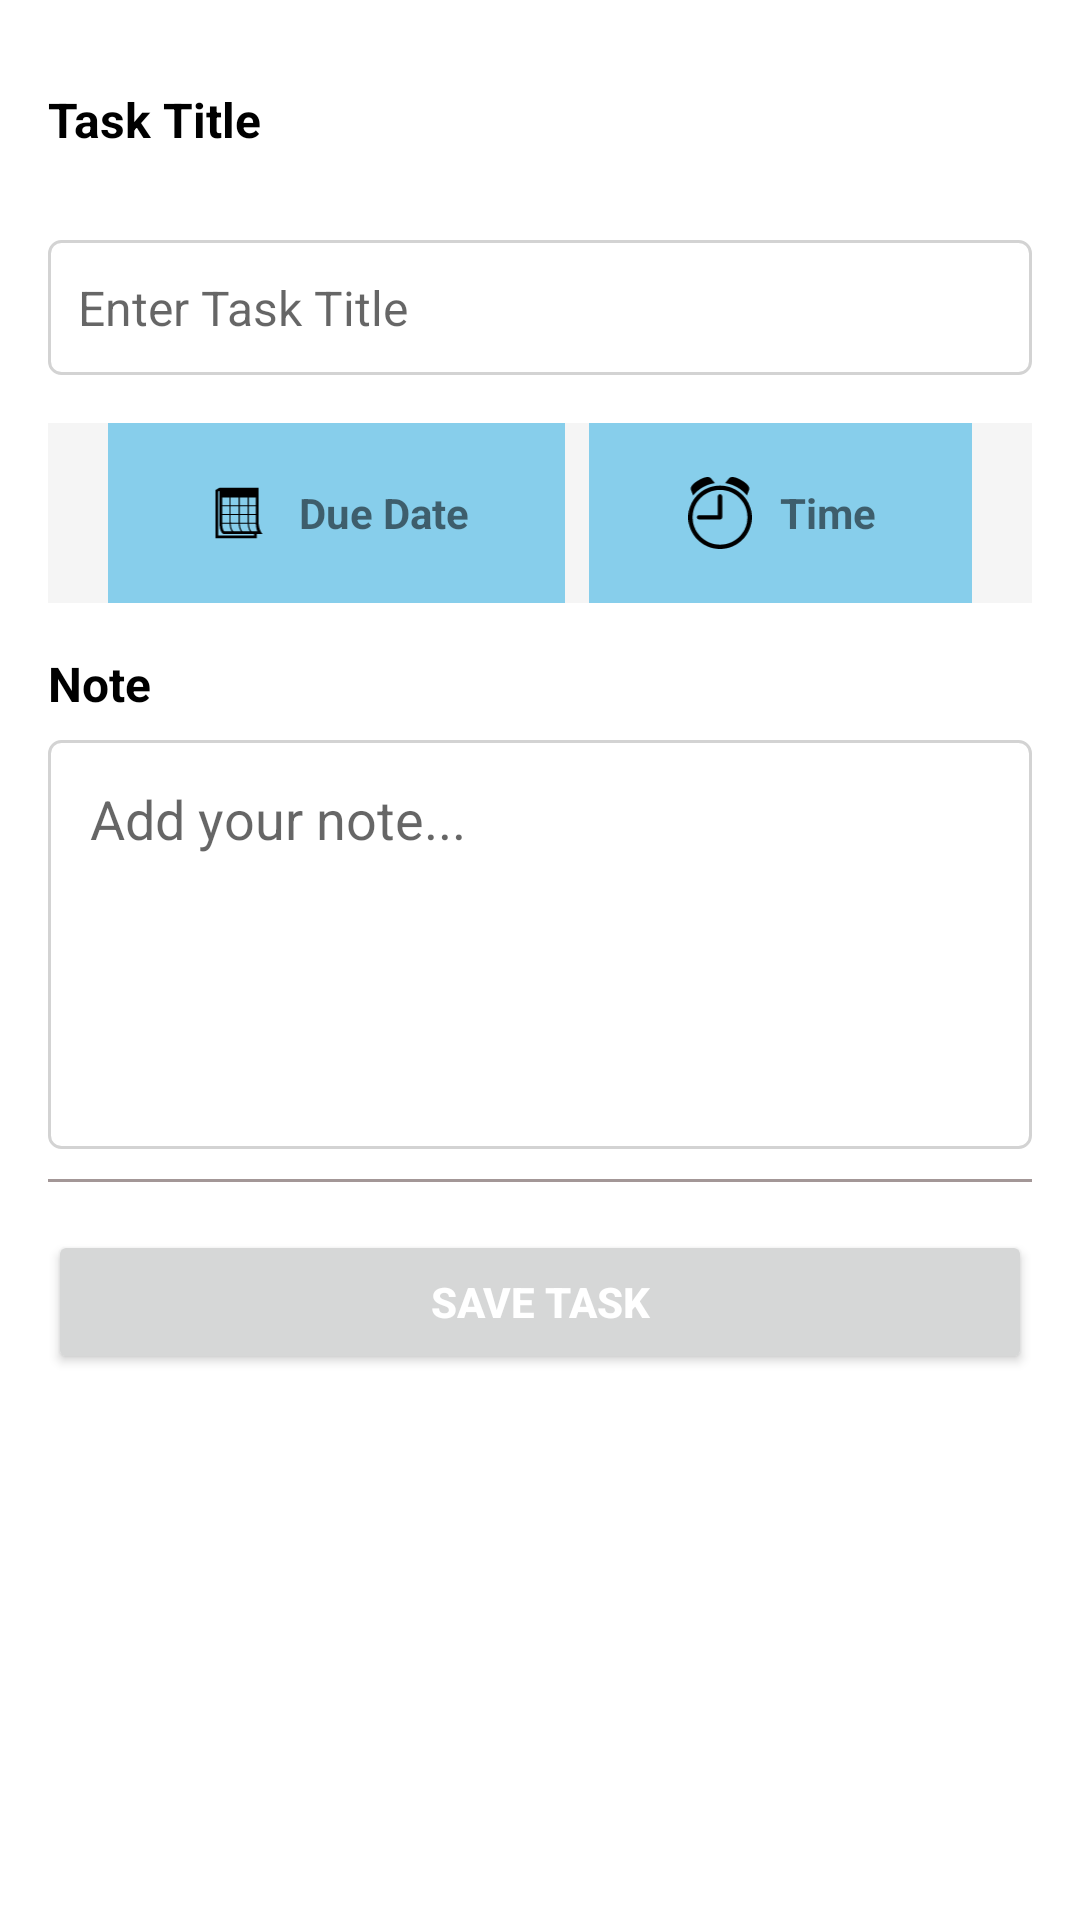

Icon bounding boxes for this 1080x1920 phone screenshot, format (x1, y1, x2, y2):
clock: (688, 477, 752, 549)
